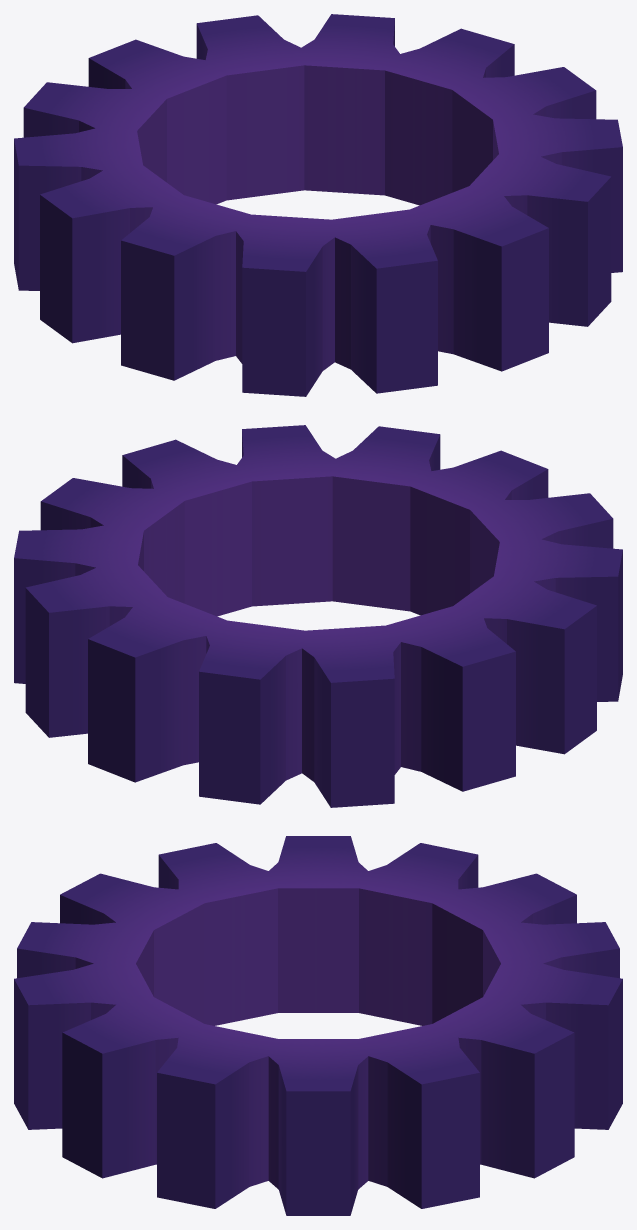
Rendered from gear5.fbx.
3 views of the same model, one above another, from view 1: azimuth 30°, elevation 25°; view 2: azimuth 150°, elevation 25°; view 3: azimuth 270°, elevation 25° (orthographic).
Parts seen in each view (by area): view 1: gear5; view 2: gear5; view 3: gear5.
Part boxes in pixels (<box>): gear5: <box>14,14,622,396</box>; gear5: <box>14,425,622,807</box>; gear5: <box>14,836,622,1215</box>.
Size of the model in its own units: 232 by 52.78 by 234.
1 material, 1 textured.
